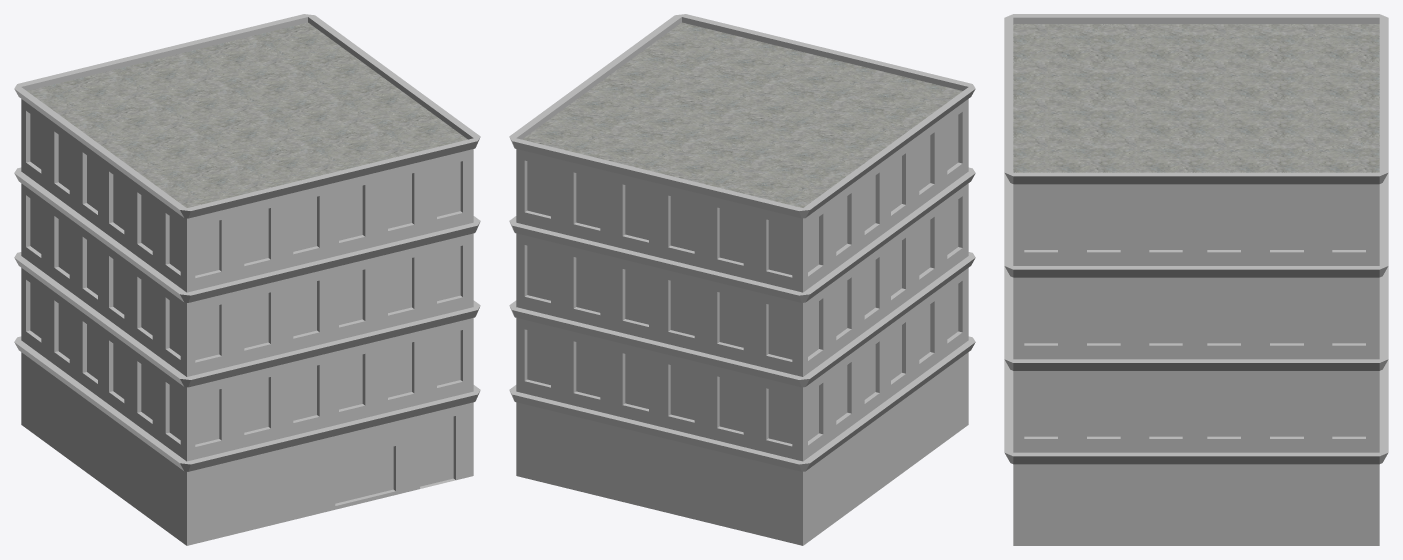
Rendered from RV_Building_Type_B_04.fbx.
The picture shows the model from 3 angles, left to right: view 1: azimuth 30°, elevation 25°; view 2: azimuth 150°, elevation 25°; view 3: azimuth 270°, elevation 25°; orthographic projection. The views are drawn at different scales.
Parts seen in each view (by area): view 1: RV_Building_Type_B_04; view 2: RV_Building_Type_B_04; view 3: RV_Building_Type_B_04.
Part boxes in pixels (<box>): RV_Building_Type_B_04: <box>14,14,480,545</box>; RV_Building_Type_B_04: <box>509,14,975,545</box>; RV_Building_Type_B_04: <box>1004,14,1388,545</box>.
Bounding box in the file's own units: 1074 × 1152 × 1074.
